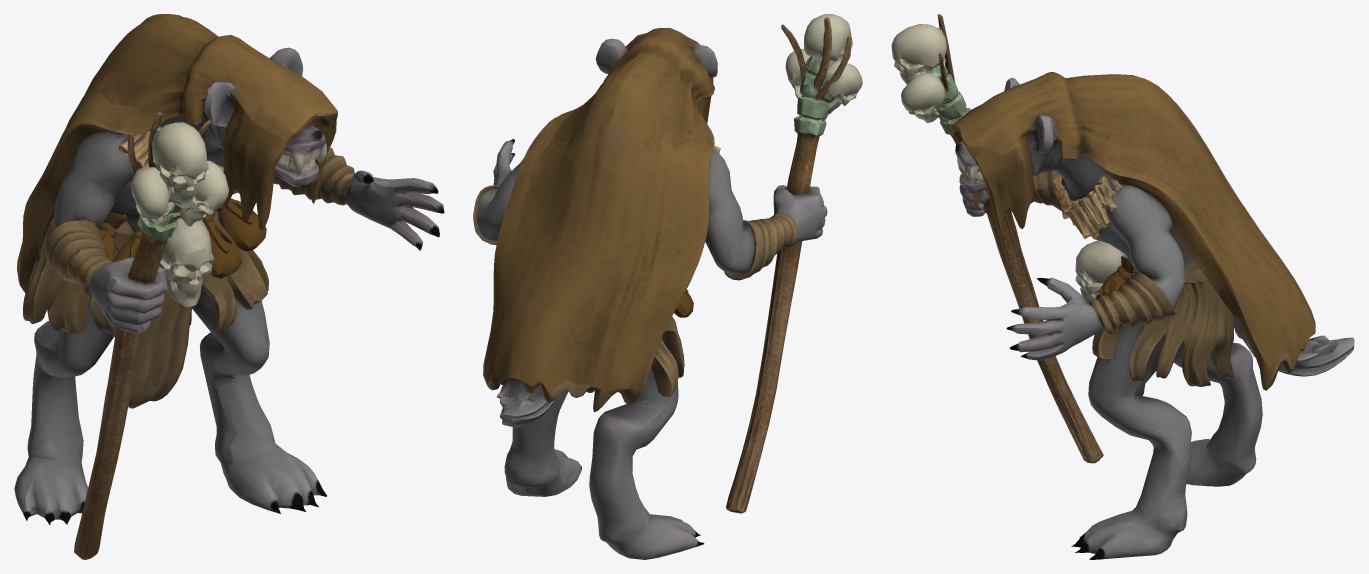
Rendered from MZ4250 - Gnoll Shaman.glb.
The picture shows the model from 3 angles, left to right: view 1: azimuth 30°, elevation 25°; view 2: azimuth 150°, elevation 25°; view 3: azimuth 270°, elevation 25°; orthographic projection. The views are drawn at different scales.
Visible parts, largest first — view 1: gnoll_shaman_low.002; view 2: gnoll_shaman_low.002; view 3: gnoll_shaman_low.002.
Part boxes in pixels (x1,y1,x2,y2): gnoll_shaman_low.002: [14, 14, 444, 559]; gnoll_shaman_low.002: [473, 14, 862, 559]; gnoll_shaman_low.002: [891, 14, 1354, 559].
Bounding box in the file's own units: 1.7 × 2.32 × 2.21.
Materials: 1 (1 with a texture image).
